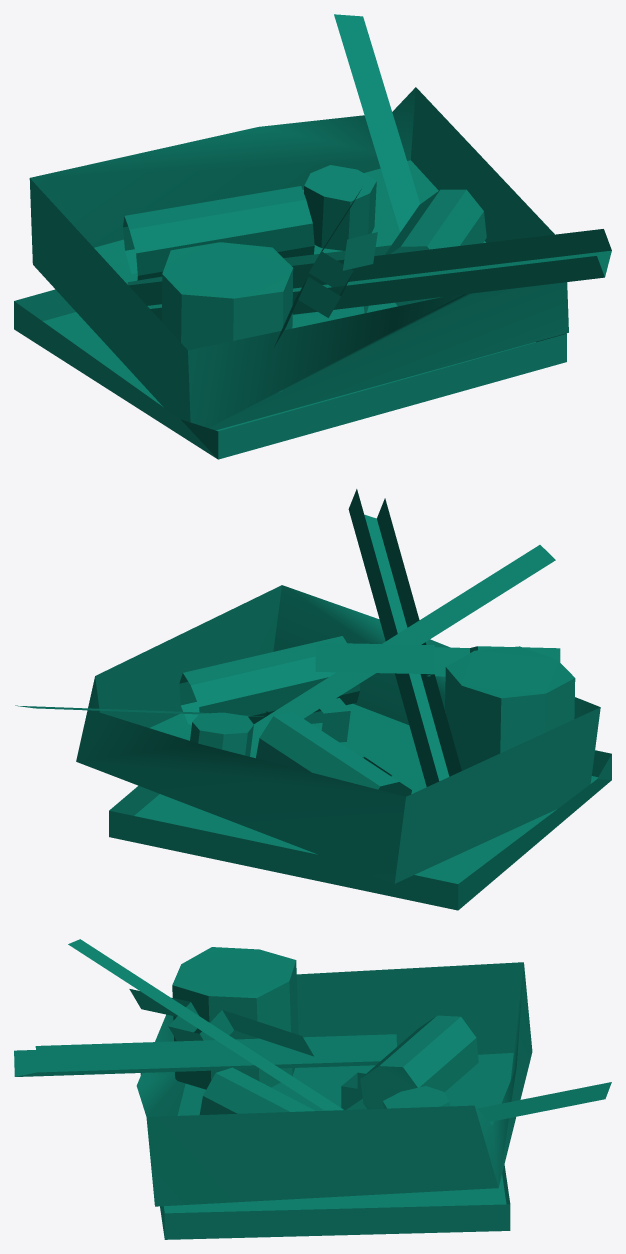
Rendered from Good metal parts.obj.
3 views of the same model, one above another, from view 1: azimuth 30°, elevation 25°; view 2: azimuth 150°, elevation 25°; view 3: azimuth 270°, elevation 25° (orthographic). The views are drawn at different scales.
Visible parts, largest first — view 1: Box03; view 2: Box03; view 3: Box03.
Part boxes in pixels (<box>): Box03: <box>14,14,611,459</box>; Box03: <box>15,489,611,910</box>; Box03: <box>14,939,611,1239</box>.
Bounding box in the file's own units: 24.67 × 11.19 × 33.06.
